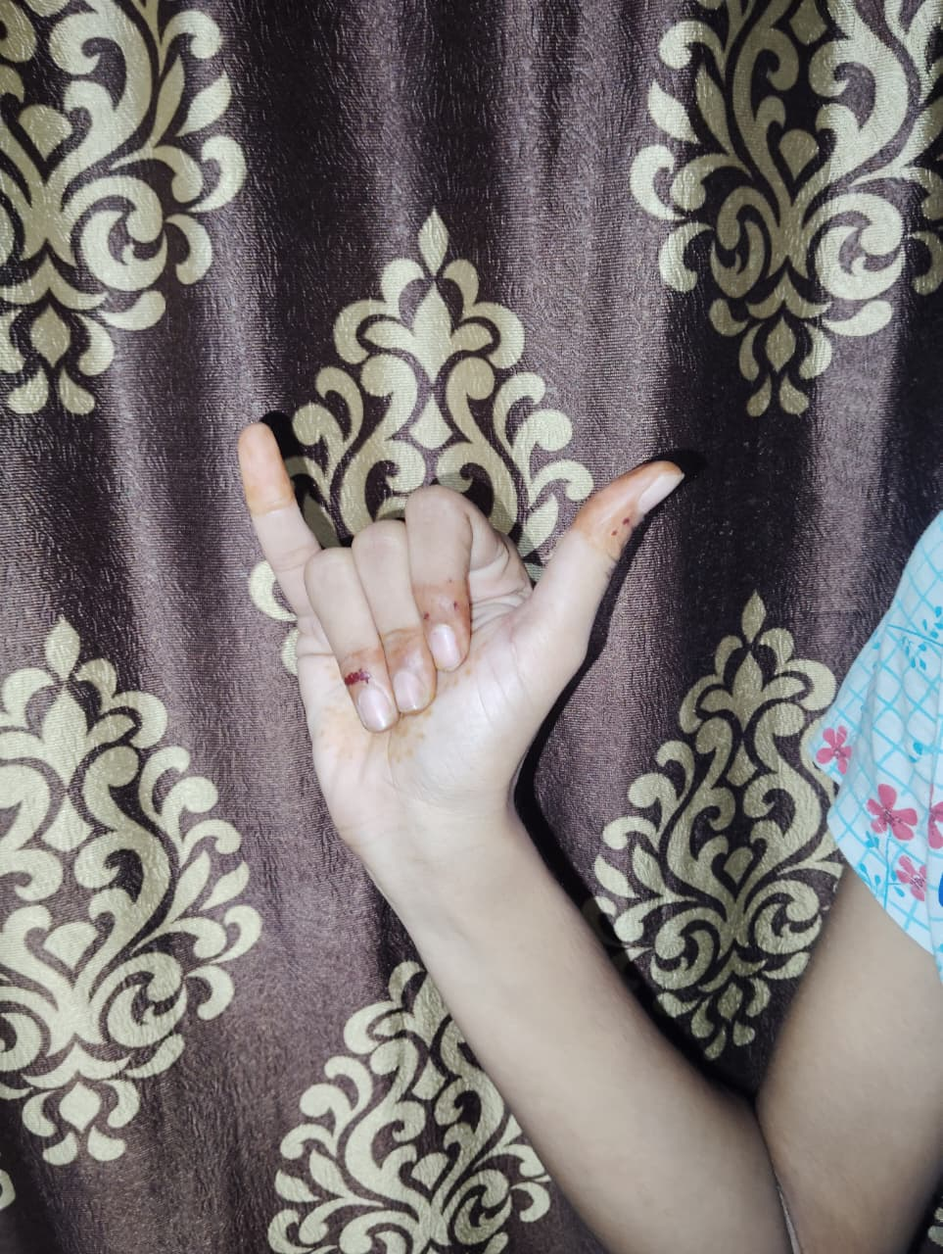Y: (238, 418, 685, 797)
